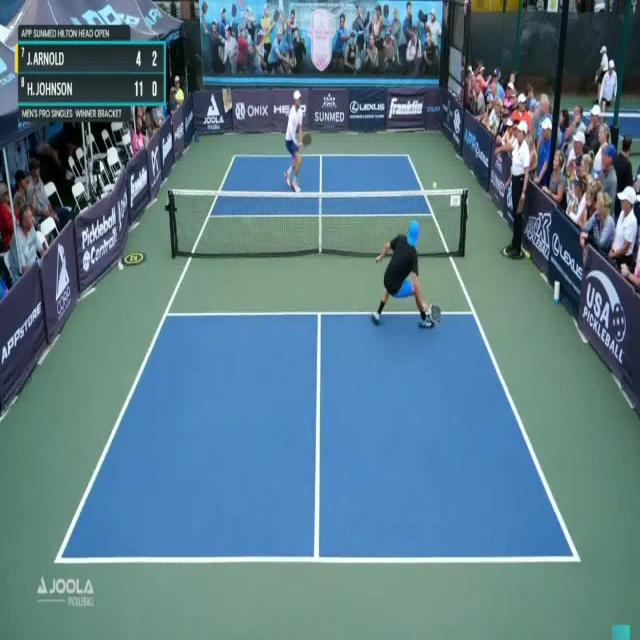Court: (63, 153, 579, 560)
ball: (431, 180, 439, 192)
